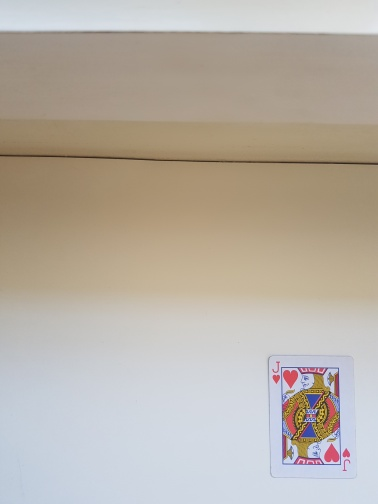jack: (267, 354, 356, 480)
